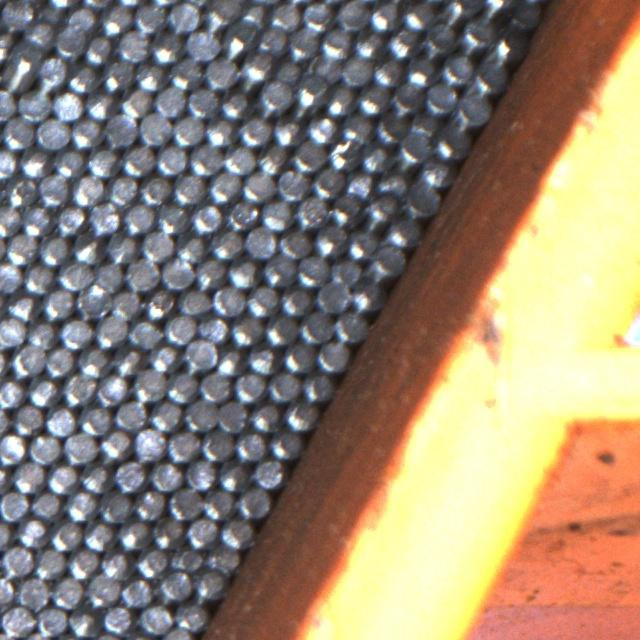tool: (168, 486, 202, 520), (185, 514, 219, 548), (298, 310, 332, 344), (183, 457, 217, 491), (64, 487, 98, 521), (114, 457, 148, 491), (258, 78, 292, 112), (201, 486, 235, 520), (218, 458, 252, 492), (291, 138, 325, 172), (58, 315, 92, 349), (282, 338, 316, 372), (111, 342, 145, 376), (76, 343, 110, 377), (229, 311, 263, 345), (52, 200, 86, 234), (102, 112, 136, 146), (156, 568, 191, 601), (132, 426, 165, 461), (247, 282, 280, 316), (35, 56, 68, 90), (17, 574, 50, 608), (116, 28, 149, 62), (237, 485, 271, 518), (117, 516, 150, 550), (98, 488, 131, 522), (264, 312, 298, 345), (198, 368, 231, 402), (82, 518, 116, 551), (184, 397, 217, 431), (173, 171, 206, 205), (98, 2, 132, 35), (149, 458, 182, 492), (132, 487, 166, 520), (94, 314, 128, 347), (33, 545, 66, 579), (37, 231, 70, 265), (238, 112, 271, 146), (120, 574, 153, 608), (169, 57, 203, 90), (316, 280, 349, 314), (140, 229, 173, 263), (11, 343, 44, 377), (261, 254, 294, 288), (137, 112, 171, 145), (70, 231, 103, 265), (171, 113, 204, 147), (190, 142, 223, 176), (62, 372, 96, 405), (4, 230, 37, 264), (125, 257, 158, 291), (48, 518, 82, 551), (132, 1, 166, 34), (86, 573, 120, 606), (106, 173, 139, 207), (174, 230, 207, 264), (87, 144, 121, 177), (51, 88, 84, 122), (1, 115, 34, 149), (138, 601, 172, 634), (75, 285, 108, 319), (219, 86, 252, 120), (151, 515, 184, 549), (238, 51, 272, 84), (102, 602, 136, 635), (243, 224, 277, 257), (104, 231, 138, 264), (285, 396, 319, 429), (280, 282, 313, 316), (87, 200, 121, 233), (11, 402, 44, 436), (1, 56, 34, 90), (174, 599, 208, 632), (300, 369, 334, 402), (213, 283, 246, 316), (57, 258, 90, 291), (43, 344, 76, 377), (46, 461, 79, 494), (149, 398, 182, 431), (295, 195, 328, 228), (19, 203, 52, 236), (225, 197, 258, 230), (114, 398, 147, 431), (186, 85, 219, 118), (233, 369, 266, 402), (318, 338, 351, 371), (109, 288, 142, 321), (135, 58, 168, 91), (217, 399, 250, 432), (267, 369, 300, 402), (241, 169, 274, 202), (15, 515, 48, 548), (147, 341, 180, 374), (260, 197, 293, 230), (18, 146, 51, 179), (250, 399, 283, 432), (132, 368, 165, 401), (139, 172, 172, 205), (185, 28, 218, 61), (222, 143, 255, 176), (80, 459, 113, 492), (136, 545, 169, 578), (90, 261, 123, 294), (440, 53, 473, 86), (122, 201, 155, 234), (150, 29, 183, 62), (165, 369, 198, 402), (120, 86, 153, 119), (72, 173, 105, 206), (51, 575, 84, 608), (247, 341, 280, 374), (311, 166, 344, 199), (26, 374, 59, 407), (37, 172, 70, 205), (227, 255, 260, 288), (98, 427, 131, 460), (200, 428, 233, 461), (271, 114, 304, 147), (214, 343, 247, 376), (166, 428, 199, 461), (155, 142, 188, 175), (204, 56, 237, 89), (78, 402, 111, 435), (27, 432, 60, 465), (235, 428, 268, 461), (277, 226, 310, 259), (190, 200, 223, 233), (461, 18, 494, 51), (397, 132, 430, 165), (42, 286, 74, 320), (68, 59, 100, 93), (122, 142, 154, 176), (275, 168, 309, 200), (144, 286, 176, 320), (18, 88, 50, 122), (36, 116, 68, 150), (6, 290, 40, 322), (0, 544, 32, 578), (67, 604, 101, 636), (168, 0, 202, 32), (99, 548, 133, 580), (61, 8, 95, 40), (408, 110, 442, 142), (160, 257, 192, 290), (12, 460, 45, 492), (66, 546, 99, 578), (334, 310, 367, 342), (22, 261, 55, 293), (208, 169, 240, 202), (372, 54, 404, 87), (164, 311, 196, 344), (30, 488, 63, 520), (70, 116, 102, 149), (194, 256, 227, 288), (96, 373, 128, 406), (296, 252, 328, 285), (170, 542, 203, 574), (364, 192, 397, 224), (44, 404, 77, 436), (63, 431, 96, 463), (193, 568, 225, 601), (208, 227, 240, 260), (324, 83, 356, 116), (374, 111, 406, 144), (156, 201, 188, 234), (34, 604, 67, 636), (221, 515, 253, 548), (301, 0, 334, 32), (128, 315, 160, 348), (204, 114, 236, 147), (153, 84, 185, 117), (0, 604, 33, 636), (314, 222, 346, 255), (84, 88, 117, 120), (4, 173, 36, 206), (220, 24, 252, 57), (305, 112, 338, 144), (269, 426, 302, 458), (52, 147, 85, 179), (420, 25, 453, 57), (458, 91, 490, 124), (328, 194, 361, 226), (387, 214, 420, 246), (474, 55, 506, 88), (22, 19, 56, 50), (376, 165, 410, 196), (83, 32, 115, 64), (424, 81, 456, 113), (198, 312, 230, 344), (182, 338, 214, 370), (326, 138, 358, 170), (390, 81, 422, 113), (386, 26, 418, 58), (352, 27, 384, 59), (341, 112, 373, 144), (25, 318, 57, 350), (294, 79, 326, 111), (102, 58, 134, 90), (178, 285, 210, 317), (272, 53, 304, 85), (357, 82, 389, 114), (257, 141, 289, 173), (201, 0, 233, 32), (329, 256, 361, 288), (252, 456, 284, 488), (404, 184, 436, 216), (404, 56, 437, 87), (206, 542, 239, 573), (368, 0, 402, 30), (268, 0, 302, 30), (341, 55, 372, 87), (320, 26, 351, 58), (336, 0, 368, 31), (360, 141, 392, 172), (349, 280, 380, 312), (53, 26, 84, 58), (370, 244, 402, 275), (286, 27, 317, 58), (420, 156, 451, 187), (403, 0, 435, 30), (310, 53, 342, 83), (256, 23, 286, 55), (508, 0, 540, 30), (0, 488, 29, 521), (345, 170, 376, 200), (0, 0, 32, 29), (347, 228, 377, 258), (238, 0, 269, 29), (486, 35, 517, 64), (0, 432, 26, 466), (439, 112, 469, 141), (0, 315, 25, 348), (432, 130, 461, 158), (0, 376, 25, 408), (436, 0, 466, 26), (0, 260, 21, 292), (478, 0, 509, 21), (0, 203, 19, 236), (0, 146, 18, 180), (0, 88, 15, 122), (0, 574, 15, 608), (160, 626, 192, 640), (0, 517, 13, 550), (0, 32, 13, 63)
